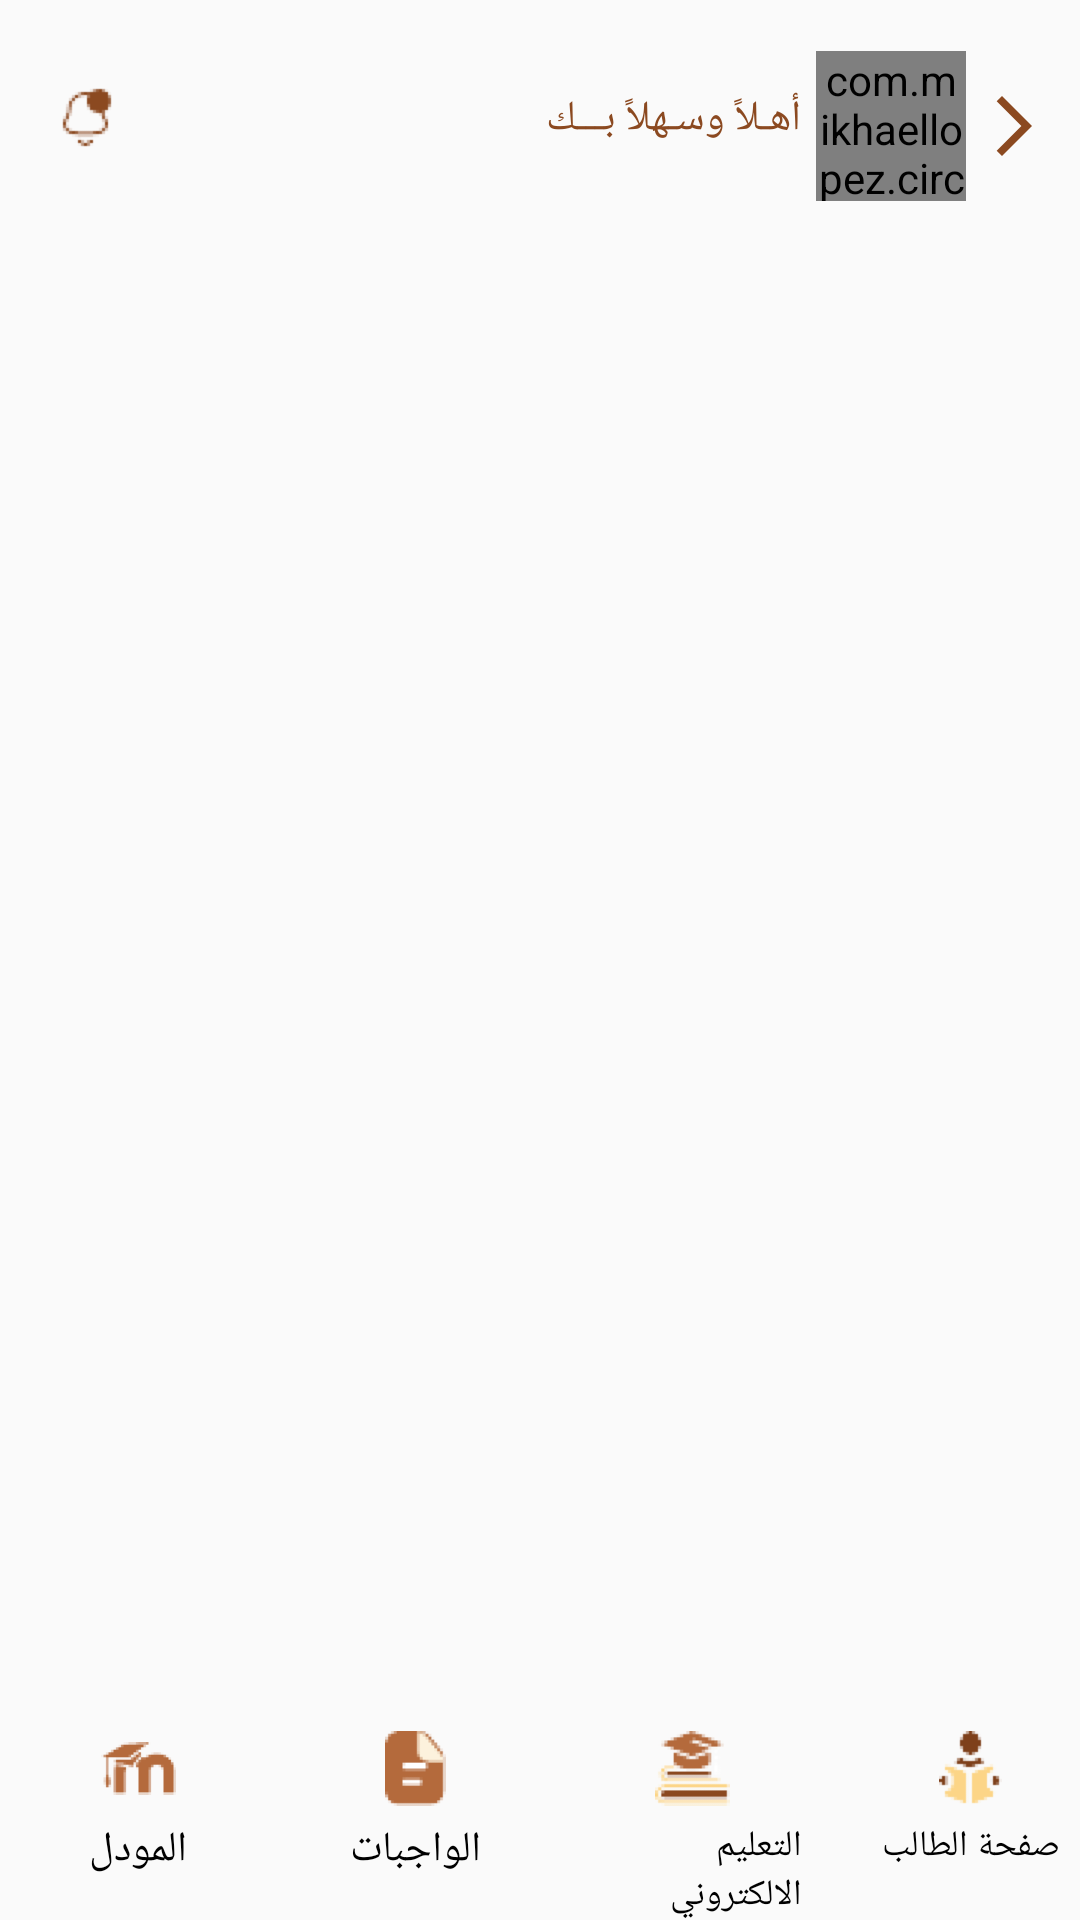

Where to tap for icons on this 1080x1920 app screen, as (x,y):
arrow forward: (1014,126)
